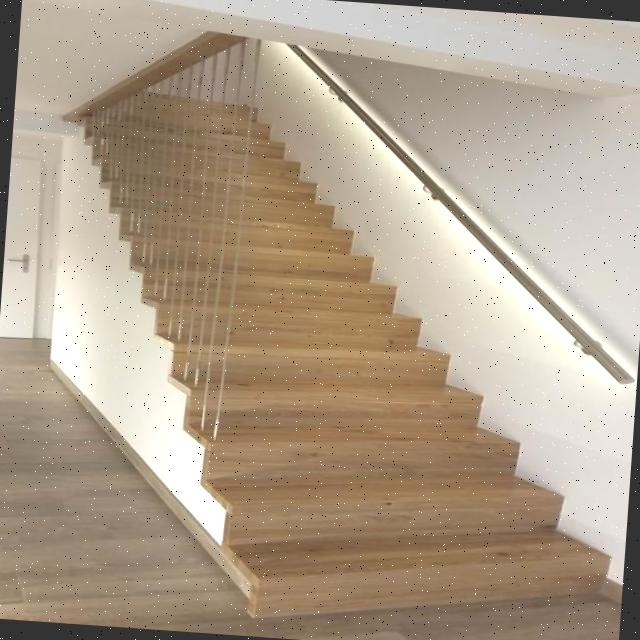stairs: (40, 81, 640, 640)
